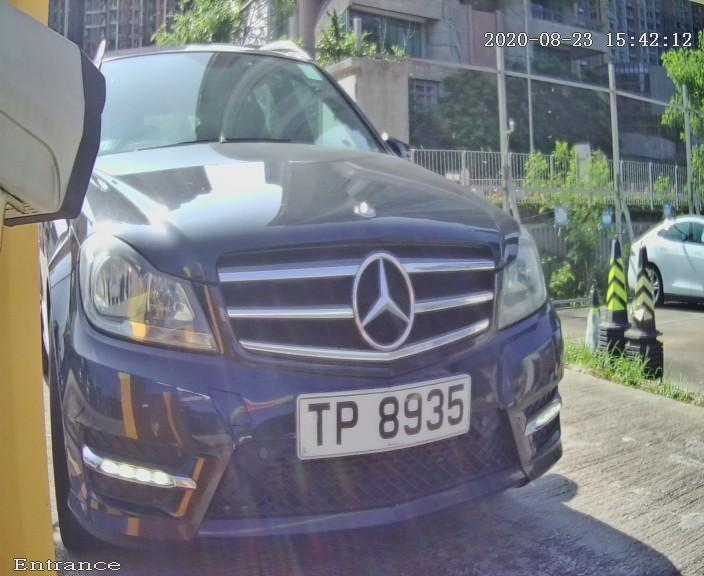Car: (26, 8, 591, 566)
License Plate: (272, 355, 486, 484)
